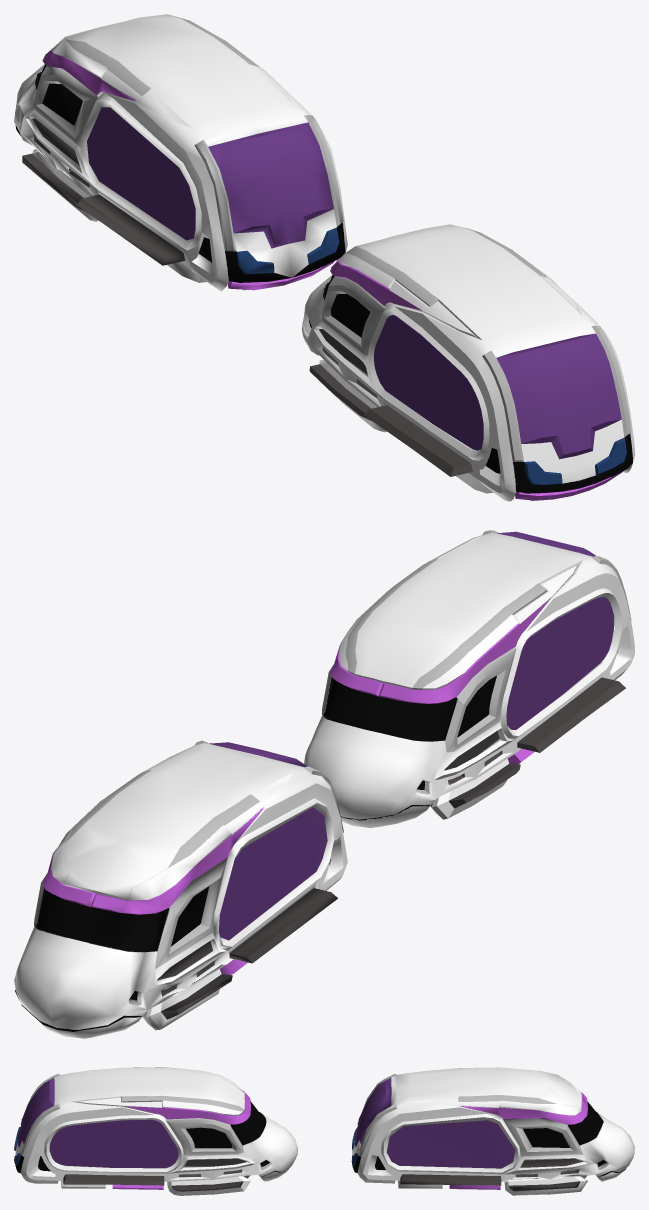
The model's file is bus para cinematica.fbx.
The picture shows the model from 3 angles, top to bottom: view 1: azimuth 30°, elevation 25°; view 2: azimuth 150°, elevation 25°; view 3: azimuth 270°, elevation 25°; orthographic projection. The views are drawn at different scales.
Visible parts, largest first — view 1: Cube lowpoly, Cube.001, cristales.001; view 2: Cube lowpoly, Cube.001, cristales.001; view 3: Cube lowpoly, Cube.001, cristales.
Boxes of the visible parts, <box> form: Cube lowpoly: <box>14,14,347,291</box>; Cube.001: <box>301,224,634,501</box>; cristales.001: <box>374,315,483,450</box>; Cube lowpoly: <box>14,740,347,1038</box>; Cube.001: <box>304,530,634,827</box>; cristales.001: <box>506,597,613,729</box>; Cube lowpoly: <box>351,1067,634,1195</box>; Cube.001: <box>14,1067,298,1195</box>; cristales: <box>49,1119,178,1168</box>.
Bounding box in the file's own units: 353 × 322 × 1843.
Materials: 1 (1 with a texture image).
